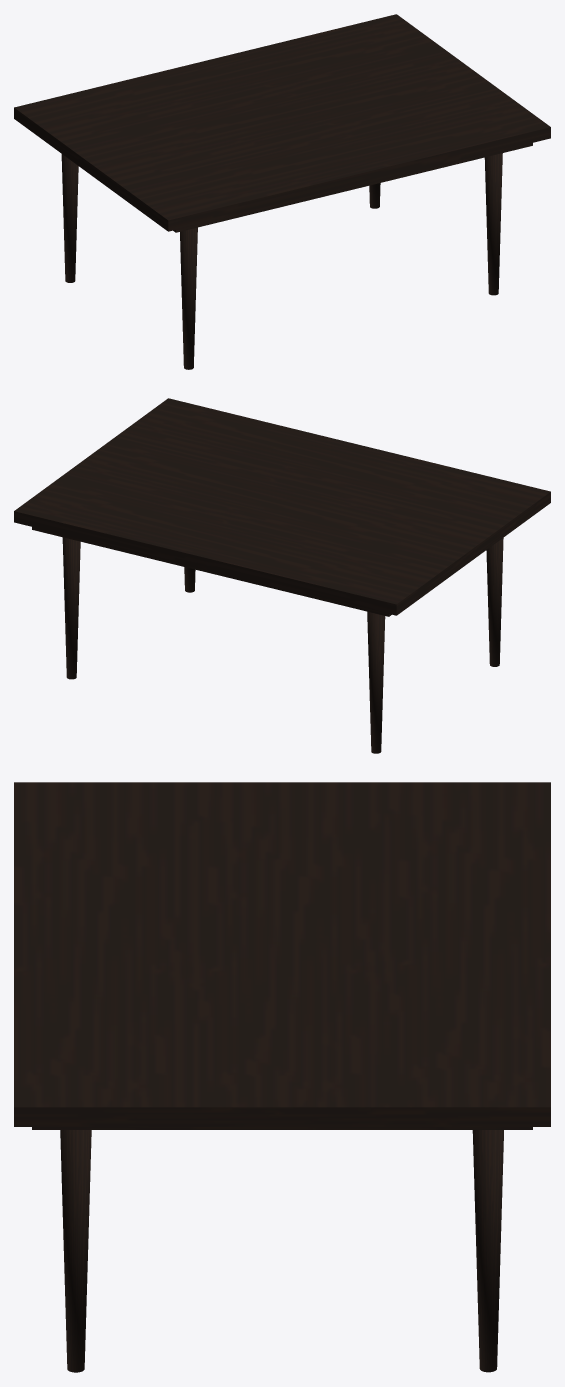
Rendered from table.fbx.
3 renders of one model, top to bottom at view 1: azimuth 30°, elevation 25°; view 2: azimuth 150°, elevation 25°; view 3: azimuth 270°, elevation 25°, orthographic. The views are drawn at different scales.
Parts seen in each view (by area): view 1: Table, Leg, Leg.001, Leg.002; view 2: Table, Leg.003, Leg.002, Leg; view 3: Table, Leg.001, Leg.003.
Boxes of the visible parts, x1,y1,x2,y2 form: Table: (14, 14, 550, 232); Leg: (180, 227, 197, 369); Leg.001: (484, 153, 502, 295); Leg.002: (61, 154, 78, 282); Table: (14, 398, 550, 616); Leg.003: (62, 537, 80, 679); Leg.002: (367, 611, 385, 753); Leg: (486, 538, 503, 666); Table: (14, 782, 550, 1129); Leg.001: (60, 1130, 91, 1372); Leg.003: (472, 1130, 503, 1372).
Size of the model in its own units: 961 by 407 by 671.
4 materials, 4 textured.
